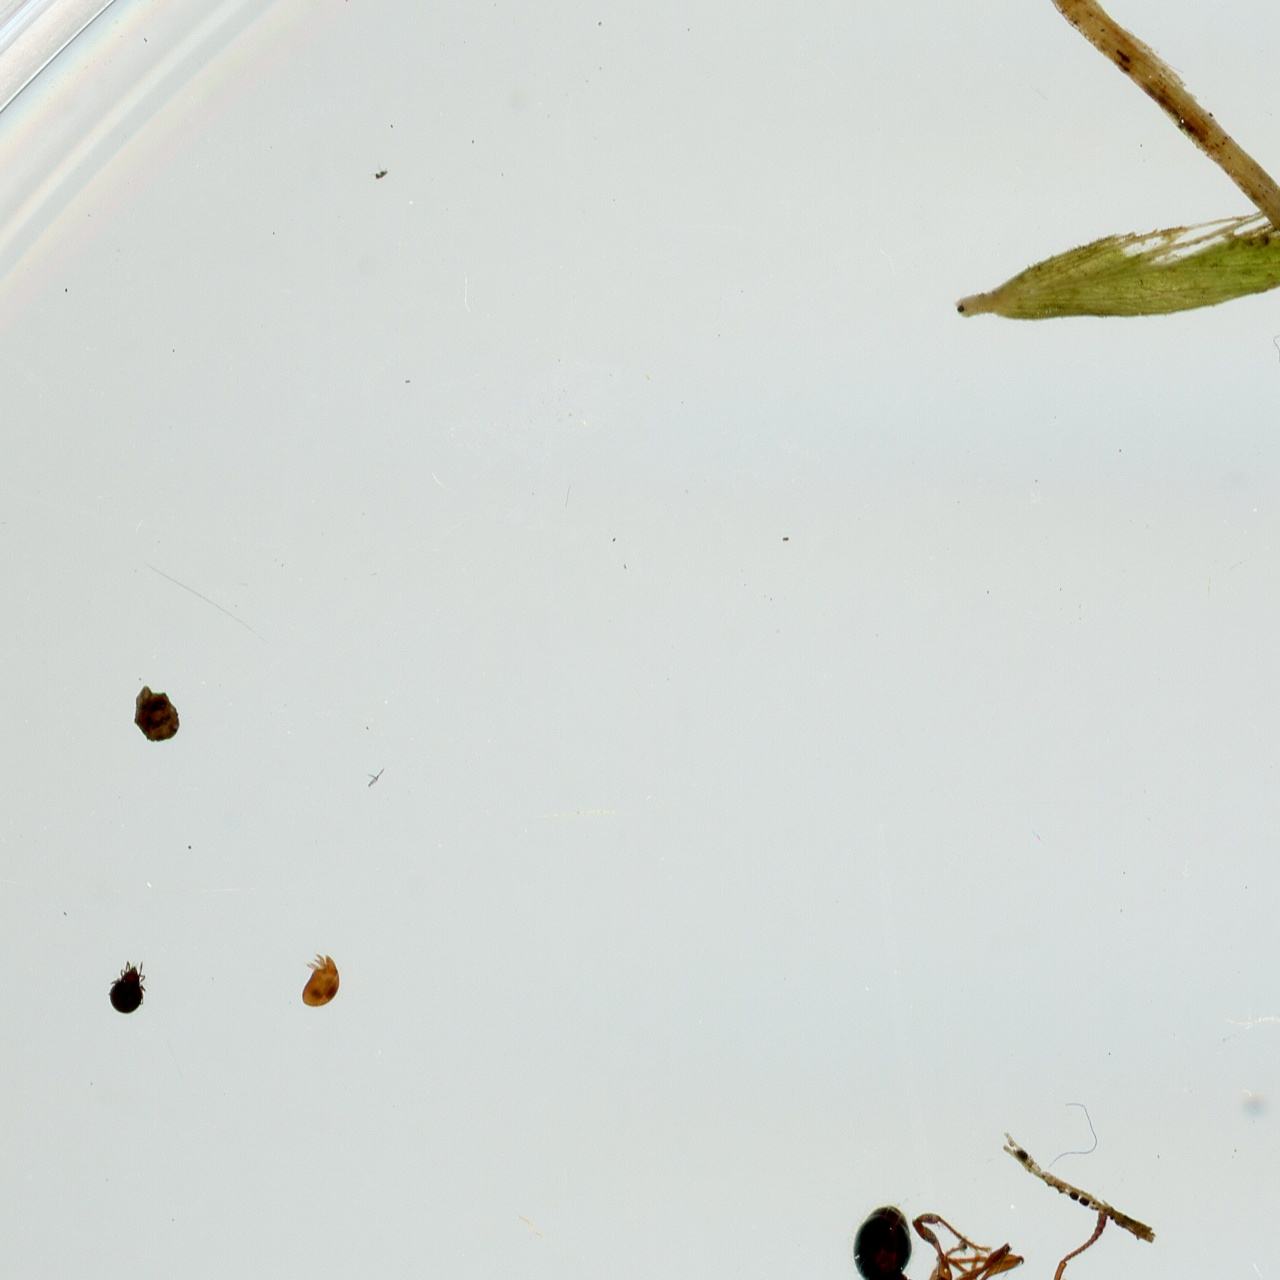arthropod: (851, 1191, 1112, 1280), (297, 951, 345, 1014), (105, 958, 150, 1015)
